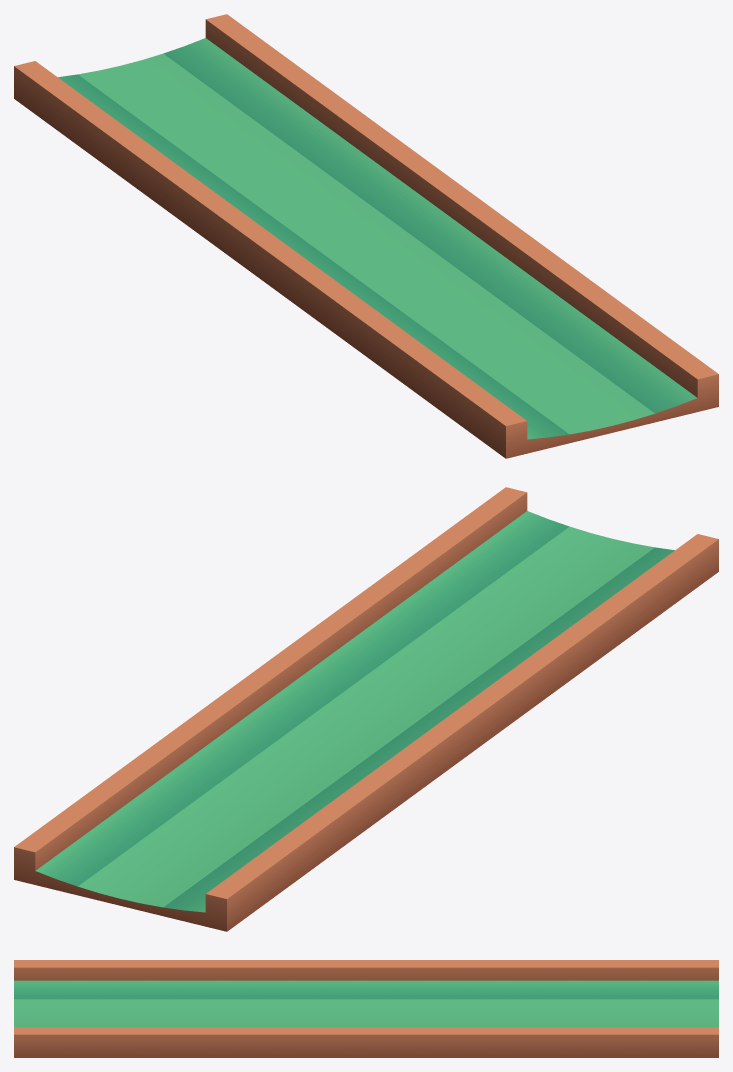
Rendered from spline-concave-straight.glb.
The picture shows the model from 3 angles, top to bottom: view 1: azimuth 30°, elevation 25°; view 2: azimuth 150°, elevation 25°; view 3: azimuth 270°, elevation 25°; orthographic projection. The views are drawn at different scales.
Visible parts, largest first — view 1: spline-concave-straight; view 2: spline-concave-straight; view 3: spline-concave-straight.
Boxes of the visible parts, left/top/right/bottom form: spline-concave-straight: left=14, top=14, right=718, bottom=458; spline-concave-straight: left=14, top=487, right=718, bottom=931; spline-concave-straight: left=14, top=960, right=718, bottom=1057.
Size of the model in its own units: 1 by 0.1465 by 4.
1 material, 1 textured.
